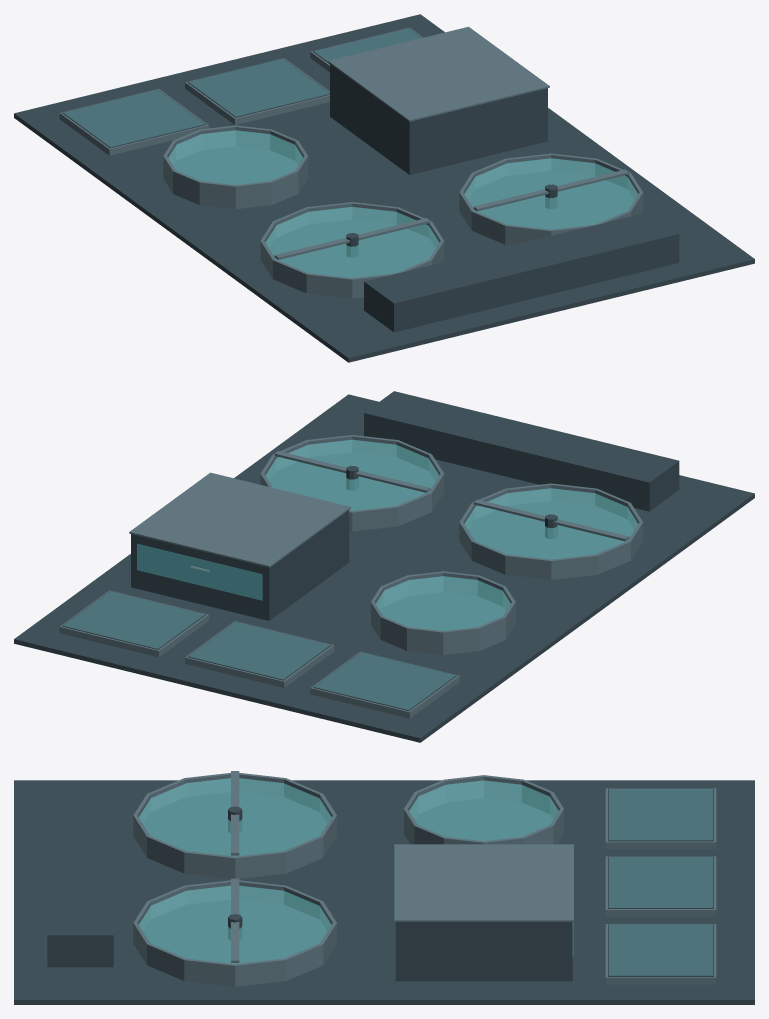
Rendered from water_treatment_plant.lod2.glb.
3 renders of one model, top to bottom at view 1: azimuth 30°, elevation 25°; view 2: azimuth 150°, elevation 25°; view 3: azimuth 270°, elevation 25°, orthographic. The views are drawn at different scales.
Visible parts, largest first — view 1: water_treatment_plant_graphite.002, water_treatment_plant_graphite_light.002, water_treatment_plant_glass.002; view 2: water_treatment_plant_graphite.002, water_treatment_plant_glass.002, water_treatment_plant_graphite_light.002; view 3: water_treatment_plant_graphite.002, water_treatment_plant_glass.002, water_treatment_plant_graphite_light.002.
Part boxes in pixels (x1=…): water_treatment_plant_graphite.002: x1=14, y1=14, x2=754, y2=362; water_treatment_plant_graphite_light.002: x1=59, y1=26, x2=643, y2=298; water_treatment_plant_glass.002: x1=65, y1=29, x2=637, y2=277; water_treatment_plant_graphite.002: x1=14, y1=391, x2=754, y2=742; water_treatment_plant_glass.002: x1=64, y1=440, x2=637, y2=709; water_treatment_plant_graphite_light.002: x1=59, y1=435, x2=643, y2=718; water_treatment_plant_graphite.002: x1=14, y1=780, x2=754, y2=1004; water_treatment_plant_glass.002: x1=139, y1=778, x2=712, y2=974; water_treatment_plant_graphite_light.002: x1=133, y1=771, x2=716, y2=986.
Size of the model in its own units: 94 by 13.28 by 134.
